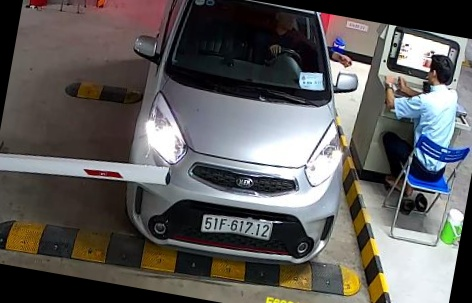plate: (197, 203, 280, 245)
